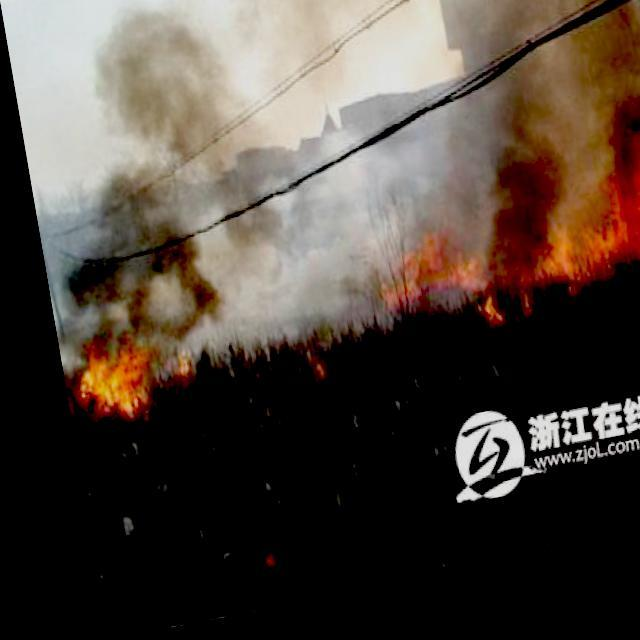Fire: (359, 161, 639, 317), (60, 332, 160, 432), (462, 304, 488, 342)
